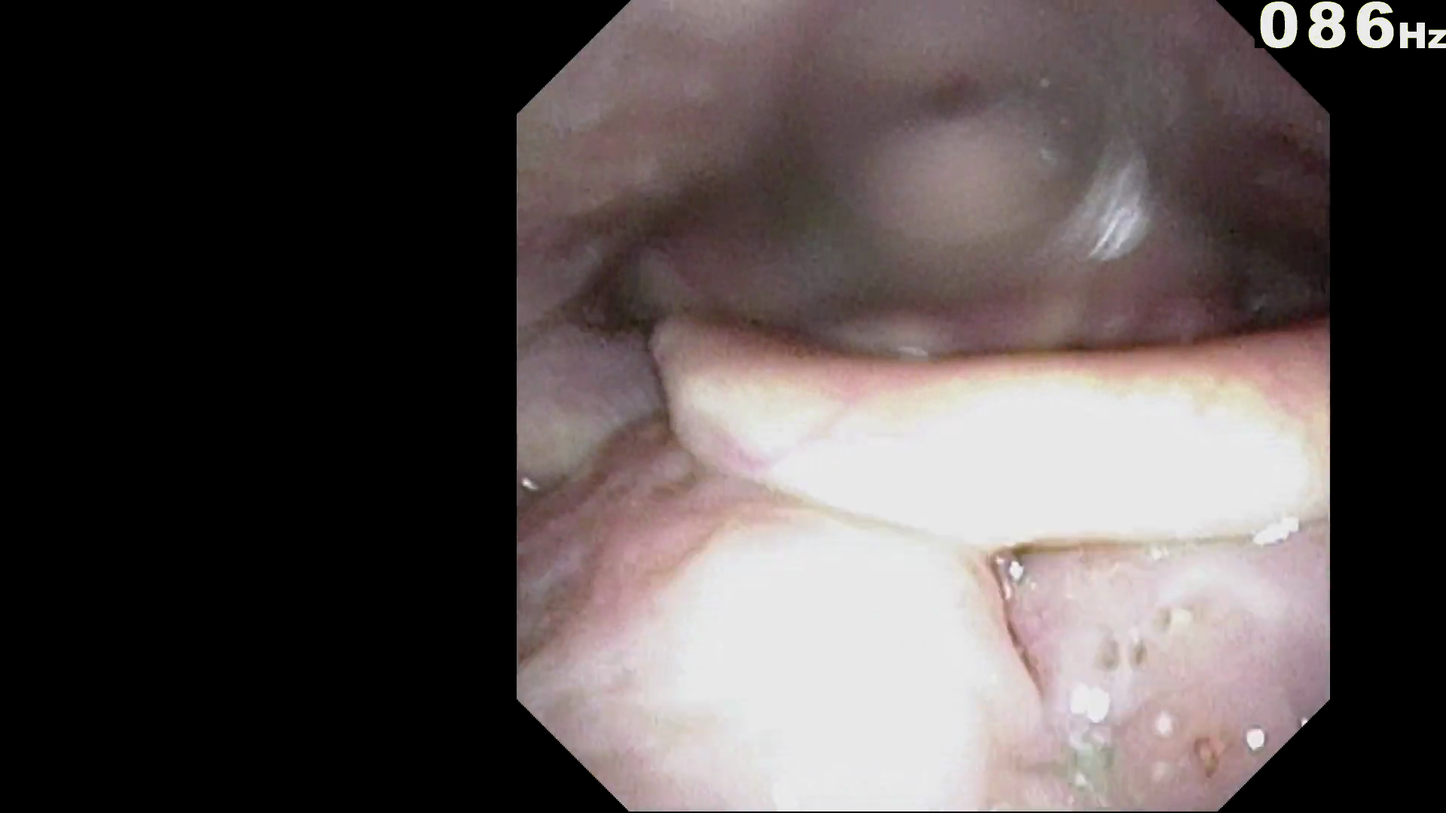epiglottis: (668, 323, 1315, 548)
trachea: (1048, 370, 1150, 455)
